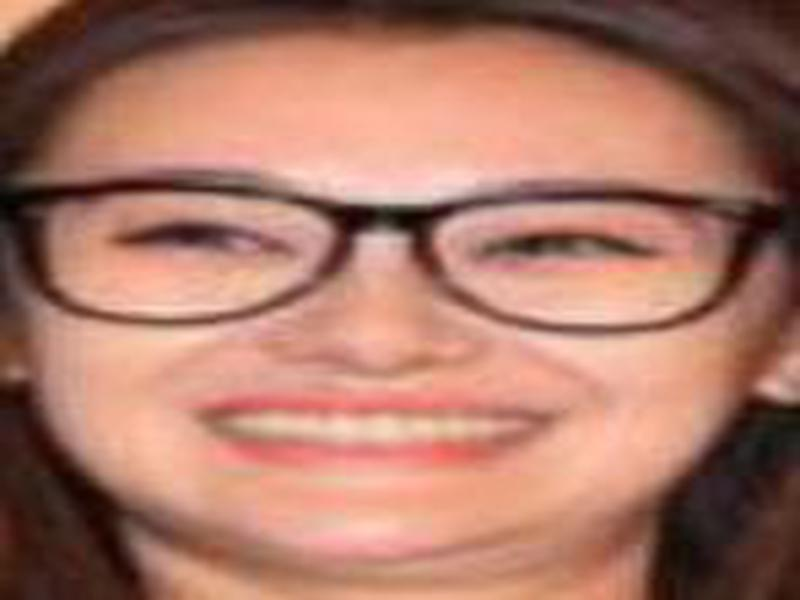without_mask: (33, 85, 753, 568)
